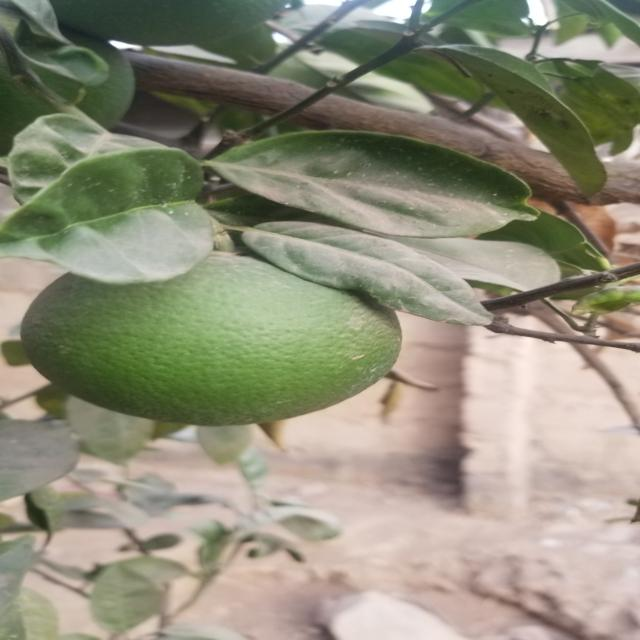Unripe: (29, 262, 392, 417)
